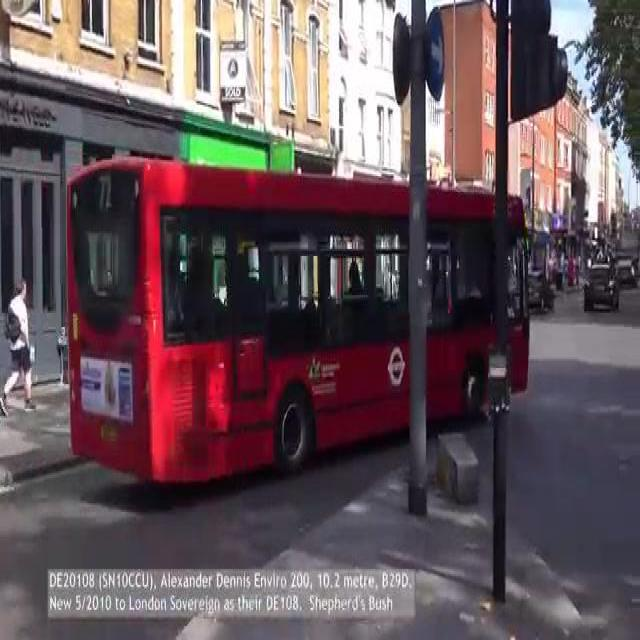motorcycle: (28, 142, 547, 496)
